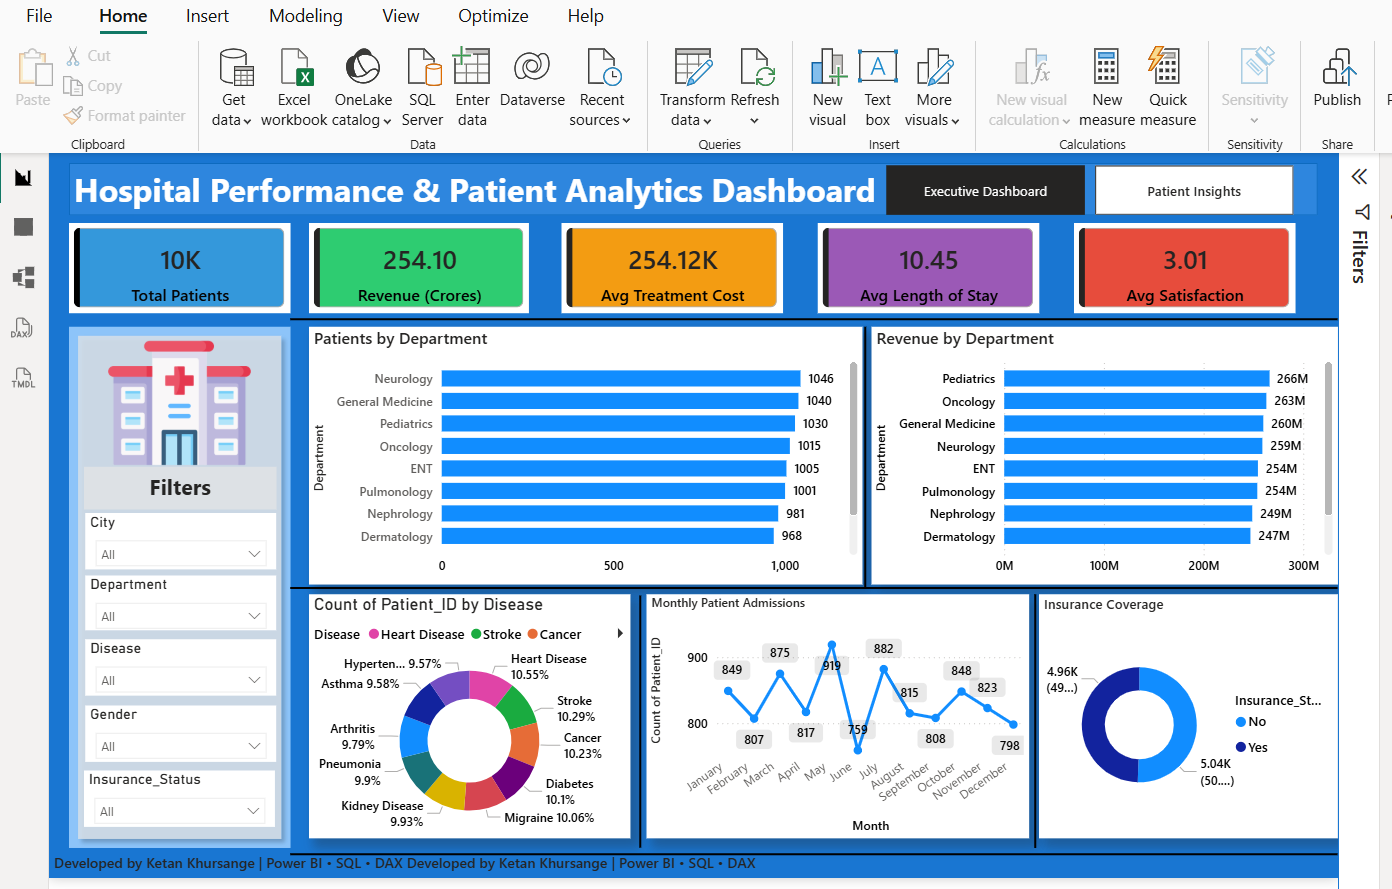

The dashboard page shown, as its layout file describes it:
{"tool":"powerbi","page":{"name":"Executive Dashboard","canvas":[1280,720],"ordinal":0},"visuals":[{"type":"shape","box":[19.9,9.9,1240,52.1],"z":0},{"type":"textbox","box":[19.9,9.9,1240,52.1],"z":1000},{"type":"cardVisual","fields":{"Data":["Healthcare_Analytics_Dataset_10000.Total Patients"]},"box":[19.9,69.5,219.7,89.4],"z":2000},{"type":"cardVisual","fields":{"Data":["Healthcare_Analytics_Dataset_10000.Revenue (Crores)"]},"box":[258.2,69.5,218.5,89.4],"z":3000},{"type":"cardVisual","fields":{"Data":["Healthcare_Analytics_Dataset_10000.Avg Satisfaction"]},"box":[1017.9,69.5,219.7,89.4],"z":4000},{"type":"cardVisual","fields":{"Data":["Healthcare_Analytics_Dataset_10000.Avg Length of Stay"]},"box":[763.4,69.5,219.7,89.4],"z":5000},{"type":"cardVisual","fields":{"Data":["Healthcare_Analytics_Dataset_10000.Avg Treatment Cost"]},"box":[508.9,69.5,219.7,89.4],"z":6000},{"type":"shape","box":[19.9,172.5,219.7,517.6],"z":7000},{"type":"textbox","box":[34.8,311.6,191.2,42.2],"z":8000},{"type":"slicer","title":"City","fields":{"Values":["Healthcare_Analytics_Dataset_10000.City"]},"box":[36,357.5,189.9,55.9],"z":9000},{"type":"slicer","title":"Department","fields":{"Values":["Healthcare_Analytics_Dataset_10000.Department"]},"box":[36,419.6,189.9,54.6],"z":10000},{"type":"slicer","title":"Disease","fields":{"Values":["Healthcare_Analytics_Dataset_10000.Disease"]},"box":[36,482.9,189.9,55.9],"z":11000},{"type":"slicer","title":"Gender","fields":{"Values":["Healthcare_Analytics_Dataset_10000.Gender"]},"box":[36,548.6,189.9,55.9],"z":12000},{"type":"slicer","title":"Insurance_Status","fields":{"Values":["Healthcare_Analytics_Dataset_10000.Insurance_Status"]},"box":[34.8,613.2,189.9,55.9],"z":13000},{"type":"clusteredBarChart","title":"Patients by Department","fields":{"Category":["Healthcare_Analytics_Dataset_10000.Department"],"Y":["CountNonNull(Healthcare_Analytics_Dataset_10000.Patient_ID)"]},"box":[258.2,172.5,549.9,255.7],"z":14000},{"type":"clusteredBarChart","title":"Revenue by Department","fields":{"Category":["Healthcare_Analytics_Dataset_10000.Department"],"Y":["Healthcare_Analytics_Dataset_10000.Total Revenue"]},"box":[816.8,172.5,463,255.7],"z":15000},{"type":"donutChart","fields":{"Category":["Healthcare_Analytics_Dataset_10000.Disease"],"Y":["CountNonNull(Healthcare_Analytics_Dataset_10000.Patient_ID)"]},"box":[258.2,438.2,319,242.1],"z":16000},{"type":"lineChart","title":"Monthly Patient Admissions","fields":{"Category":["Healthcare_Analytics_Dataset_10000.Admission_Date.Variation.Date Hierarchy.Month"],"Y":["CountNonNull(Healthcare_Analytics_Dataset_10000.Patient_ID)"]},"box":[593.3,438.2,379.8,242.1],"z":17000},{"type":"donutChart","title":"Insurance Coverage","fields":{"Category":["Healthcare_Analytics_Dataset_10000.Insurance_Status"],"Y":["CountNonNull(Healthcare_Analytics_Dataset_10000.Patient_ID)"]},"box":[983.1,438.2,296.7,242.1],"z":18000},{"type":"image","box":[34.8,172.5,189.9,151.4],"z":19000},{"type":"shape","box":[580.9,439.4,12.4,250.7],"z":19001},{"type":"shape","box":[973.2,438.2,12.4,252],"z":19002},{"type":"shape","box":[804.4,172.5,12.4,259.4],"z":19003},{"type":"shape","box":[239.6,425.8,1040.2,12.4],"z":19004},{"type":"shape","box":[239.6,690.2,1040.2,12.4],"z":19005},{"type":"shape","box":[239.6,158.9,1040.2,12.4],"z":19006},{"type":"pageNavigator","box":[831.7,12.4,405.9,49.7],"z":19008},{"type":"textbox","box":[0,690.2,728.6,29.8],"z":19009}]}

Visuals, with their boxes on the page's 1280x720 design canvas (x1, y1, x2, y2). These are canvas units, not pixel positions in the 1392x889 screenshot, which may show the page scaled, cropped or inside an application window:
shape: Rect(20, 10, 1260, 62)
textbox: Rect(20, 10, 1260, 62)
cardVisual - Healthcare_Analytics_Dataset_10000.Total Patients: Rect(20, 70, 240, 159)
cardVisual - Healthcare_Analytics_Dataset_10000.Revenue (Crores): Rect(258, 70, 477, 159)
cardVisual - Healthcare_Analytics_Dataset_10000.Avg Satisfaction: Rect(1018, 70, 1238, 159)
cardVisual - Healthcare_Analytics_Dataset_10000.Avg Length of Stay: Rect(763, 70, 983, 159)
cardVisual - Healthcare_Analytics_Dataset_10000.Avg Treatment Cost: Rect(509, 70, 729, 159)
shape: Rect(20, 172, 240, 690)
textbox: Rect(35, 312, 226, 354)
"City" slicer: Rect(36, 358, 226, 413)
"Department" slicer: Rect(36, 420, 226, 474)
"Disease" slicer: Rect(36, 483, 226, 539)
"Gender" slicer: Rect(36, 549, 226, 604)
"Insurance_Status" slicer: Rect(35, 613, 225, 669)
"Patients by Department" clusteredBarChart: Rect(258, 172, 808, 428)
"Revenue by Department" clusteredBarChart: Rect(817, 172, 1280, 428)
donutChart - Healthcare_Analytics_Dataset_10000.Disease x CountNonNull(Healthcare_Analytics_Dataset_10000.Patient_ID): Rect(258, 438, 577, 680)
"Monthly Patient Admissions" lineChart: Rect(593, 438, 973, 680)
"Insurance Coverage" donutChart: Rect(983, 438, 1280, 680)
image: Rect(35, 172, 225, 324)
shape: Rect(581, 439, 593, 690)
shape: Rect(973, 438, 986, 690)
shape: Rect(804, 172, 817, 432)
shape: Rect(240, 426, 1280, 438)
shape: Rect(240, 690, 1280, 703)
shape: Rect(240, 159, 1280, 171)
pageNavigator: Rect(832, 12, 1238, 62)
textbox: Rect(0, 690, 729, 720)
